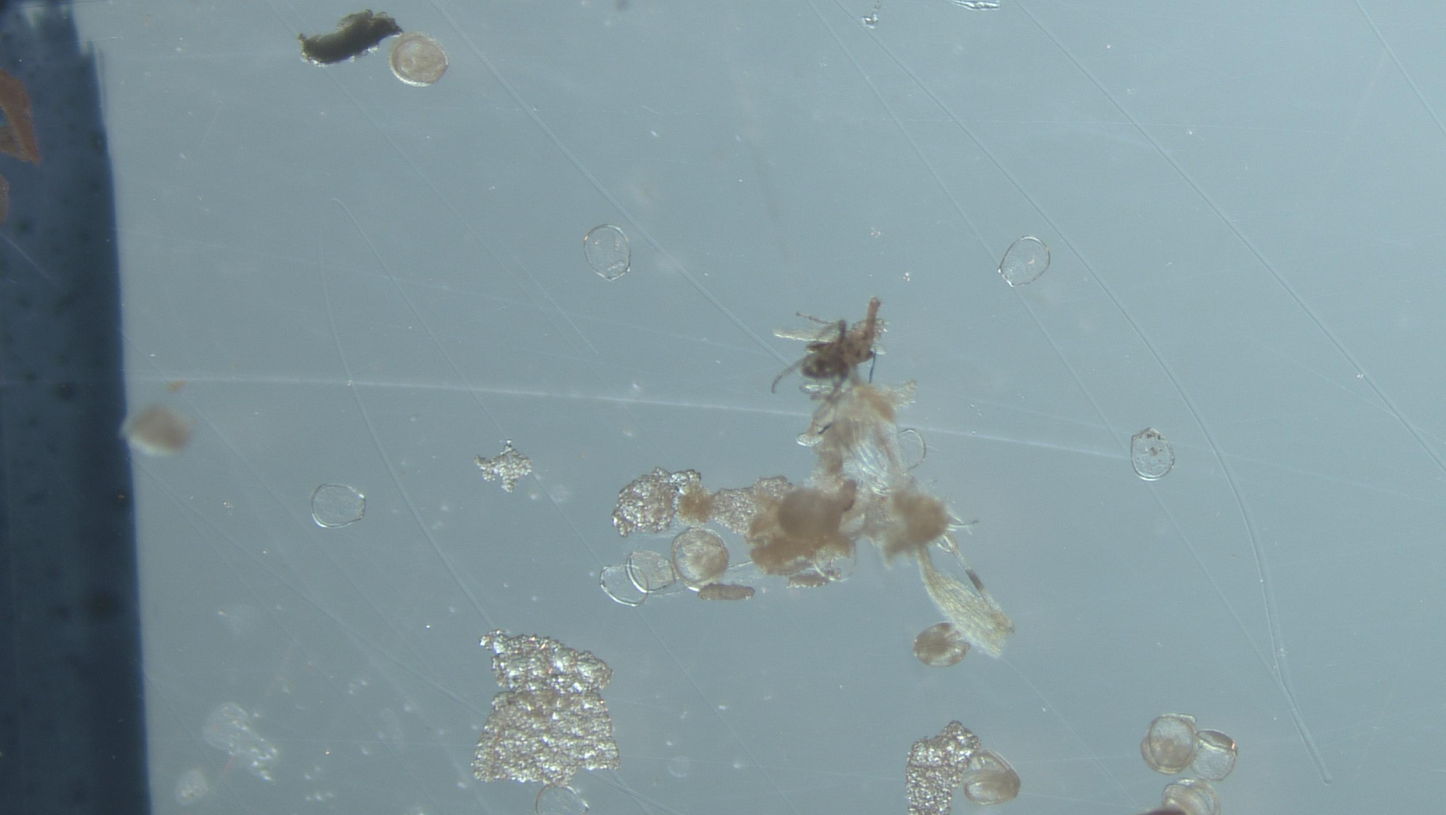dead: (999, 236, 1051, 287), (585, 225, 631, 280), (312, 484, 365, 528), (1131, 428, 1175, 481), (1191, 730, 1236, 781), (625, 550, 676, 594), (600, 563, 649, 607), (535, 785, 589, 815), (897, 429, 928, 470), (814, 552, 856, 582), (1147, 447, 1148, 448)
live: (122, 404, 194, 456), (1141, 714, 1197, 774), (672, 528, 727, 587), (963, 749, 1020, 805), (390, 33, 447, 86), (913, 622, 970, 668), (1162, 779, 1219, 815)
